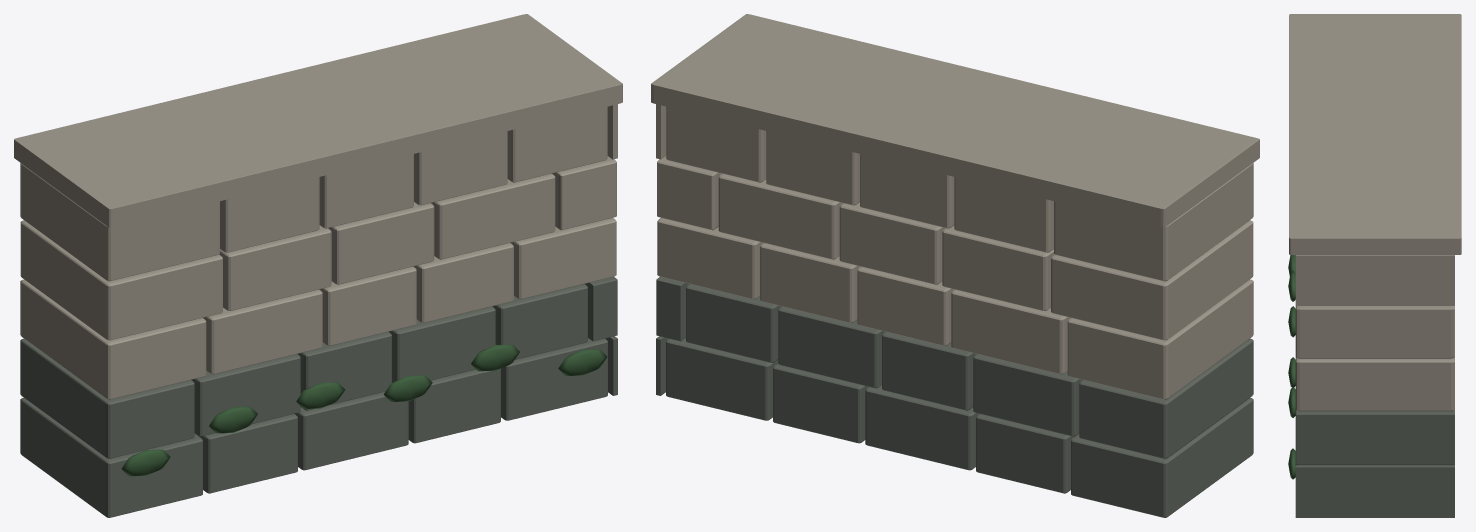
Rendered from kaimauer_gerade.glb.
3 renders of one model, left to right at view 1: azimuth 30°, elevation 25°; view 2: azimuth 150°, elevation 25°; view 3: azimuth 270°, elevation 25°, orthographic. The views are drawn at different scales.
Parts seen in each view (by area): view 1: Cube; view 2: Cube; view 3: Cube.
Part boxes in pixels (<box>): Cube: <box>14,14,622,517</box>; Cube: <box>651,14,1259,517</box>; Cube: <box>1288,14,1461,517</box>.
Size of the model in its own units: 4 by 2.33 by 1.31.
